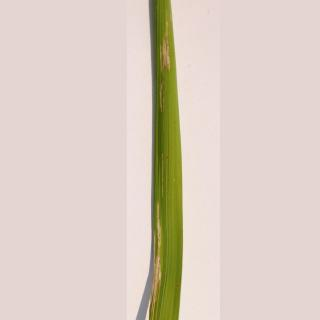Hawar-Daun: (152, 11, 181, 120), (145, 200, 165, 318)
